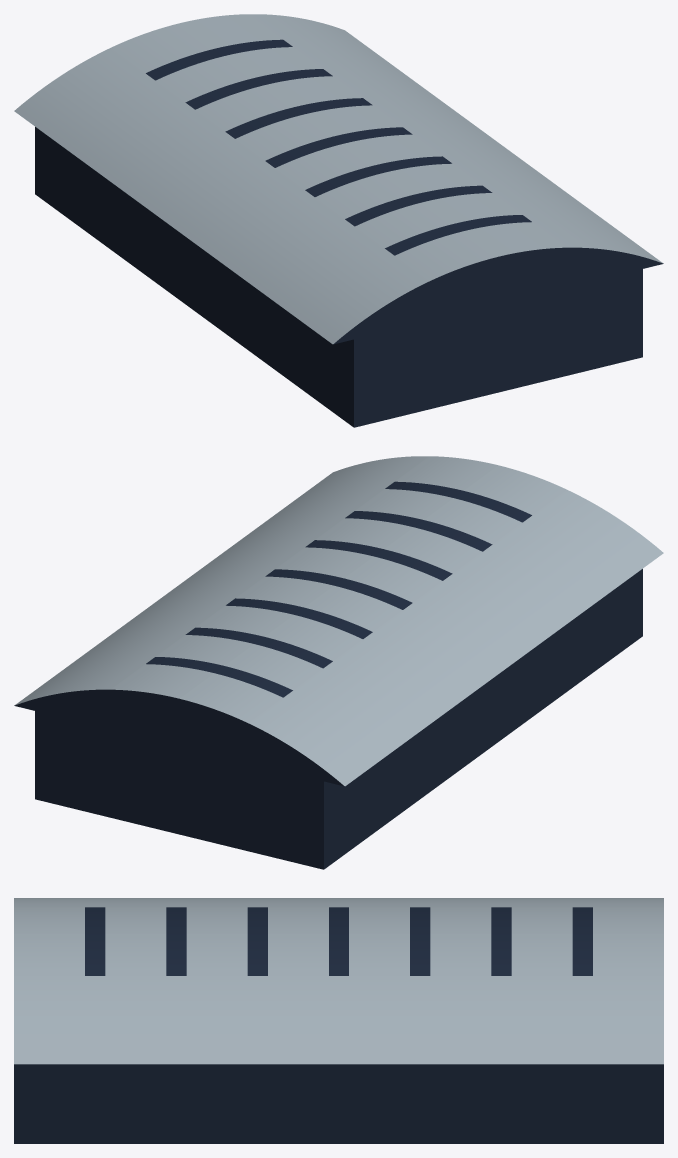
The model's file is tyg.gltf.
The picture shows the model from 3 angles, top to bottom: view 1: azimuth 30°, elevation 25°; view 2: azimuth 150°, elevation 25°; view 3: azimuth 270°, elevation 25°; orthographic projection.
Parts seen in each view (by area): view 1: root; view 2: root; view 3: root.
Part boxes in pixels (left/top/right/bottom): root: left=14, top=14, right=663, bottom=427; root: left=14, top=456, right=663, bottom=869; root: left=14, top=898, right=663, bottom=1143.
Bounding box in the file's own units: 78.39 × 30.74 × 131.
